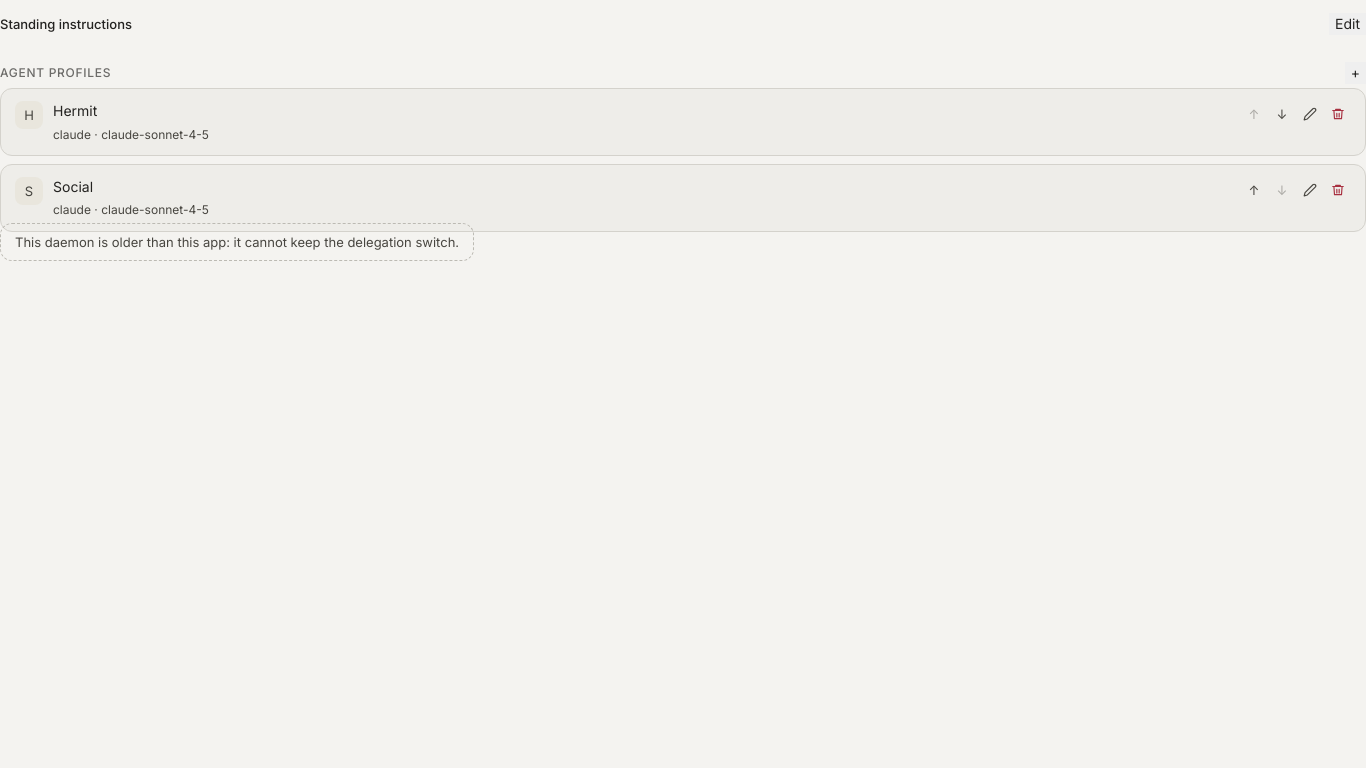
Test: Settings agents panel — new profile form: catalog, caps and stored rows › shows the peer restriction in the stored profile's editor
Click the button named "Edit Hermit". click: (1310, 114)
box: x1=1297 y1=101 x2=1323 y2=127
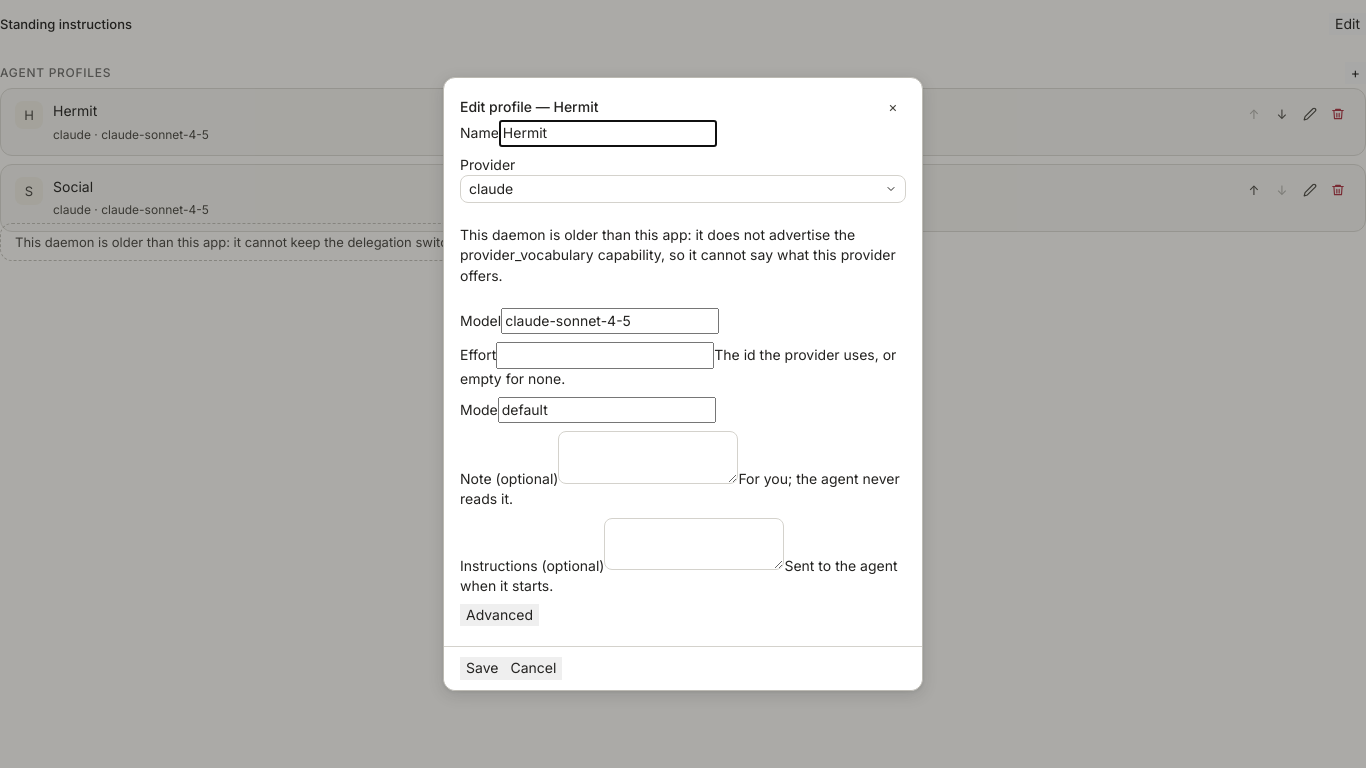
Click the button "Advanced". click: (500, 615)
box: x1=460 y1=604 x2=539 y2=626
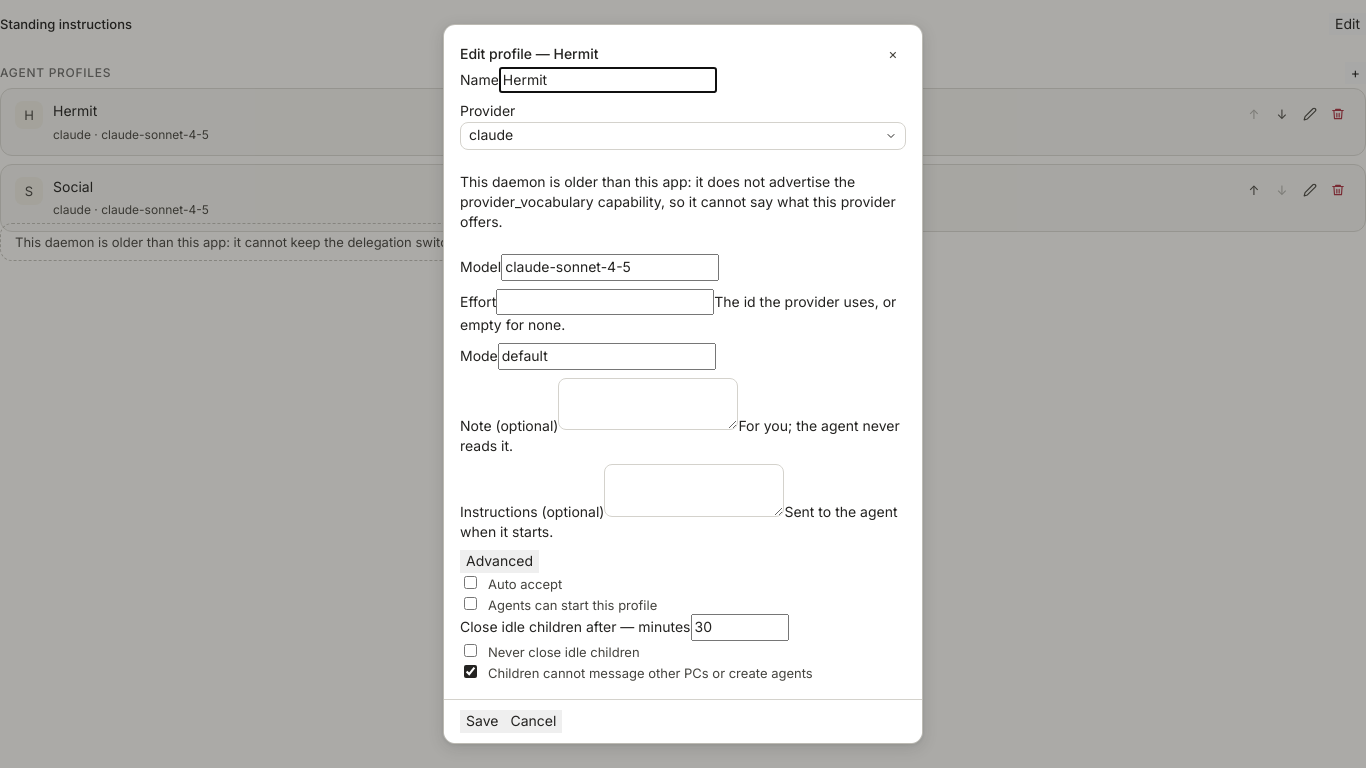
Now the checkbox named "Children cannot message other PCs or create agents" is checked, box x1=464 y1=664 x2=477 y2=678
